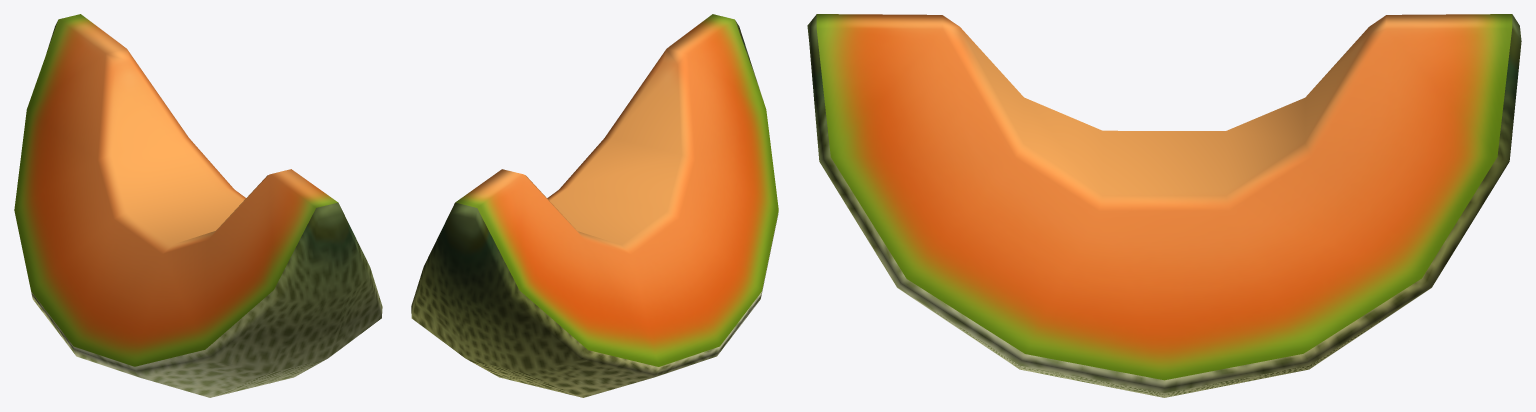
Rendered from Cantaloupe_Slice.fbx.
The picture shows the model from 3 angles, left to right: view 1: azimuth 30°, elevation 25°; view 2: azimuth 150°, elevation 25°; view 3: azimuth 270°, elevation 25°; orthographic projection. The views are drawn at different scales.
Parts seen in each view (by area): view 1: Canteloupe_Slice; view 2: Canteloupe_Slice; view 3: Canteloupe_Slice.
Boxes of the visible parts, x1,y1,x2,y2 form: Canteloupe_Slice: (14, 14, 382, 397); Canteloupe_Slice: (411, 14, 778, 397); Canteloupe_Slice: (807, 14, 1521, 397).
Bounding box in the file's own units: 24.72 × 24.28 × 45.33.
